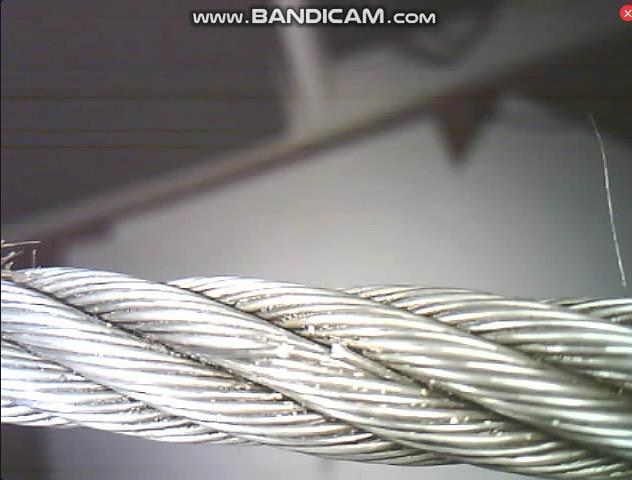break: (254, 326, 355, 366)
